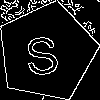S: (22, 27, 61, 76)
